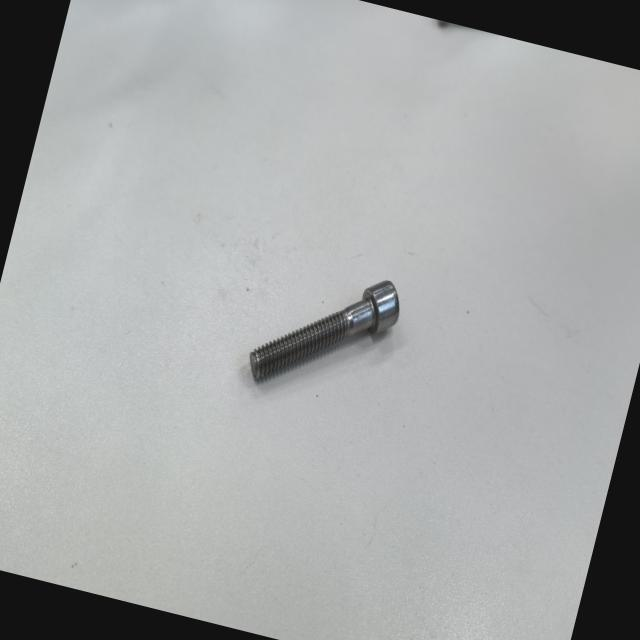screws: (246, 271, 404, 391)
